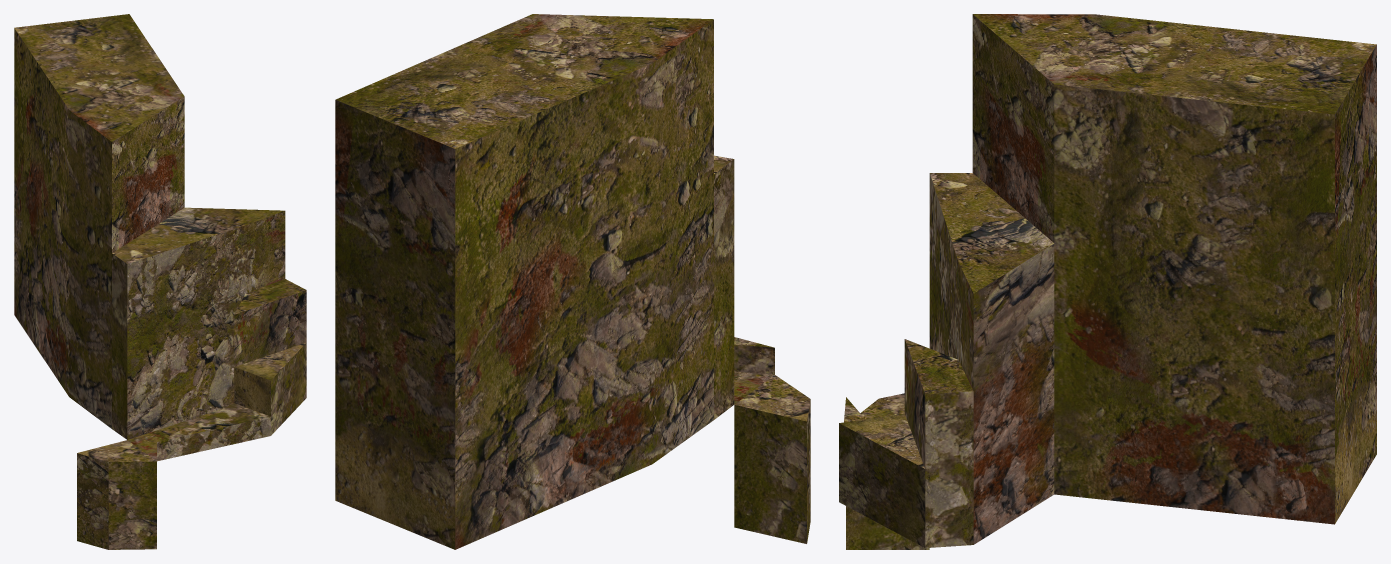
Rendered from risingIsland.fbx.
3 renders of one model, left to right at view 1: azimuth 30°, elevation 25°; view 2: azimuth 150°, elevation 25°; view 3: azimuth 270°, elevation 25°, orthographic. The views are drawn at different scales.
Visible parts, largest first — view 1: Vert; view 2: Vert; view 3: Vert.
Part boxes in pixels (<box>): Vert: <box>14,14,306,549</box>; Vert: <box>335,14,810,549</box>; Vert: <box>839,14,1376,549</box>.
Size of the model in its own units: 7014 by 10971 by 9984.
1 material, 1 textured.
